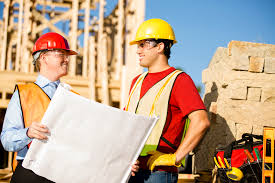hard hat: (129, 18, 177, 44), (30, 32, 78, 55)
high-vis: (127, 68, 190, 157), (13, 81, 53, 151)
